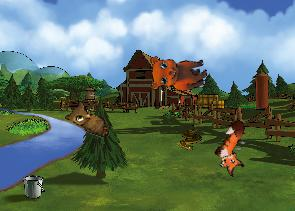bear: (145, 45, 210, 97)
fox: (206, 117, 263, 179)
owl: (63, 97, 116, 138)
